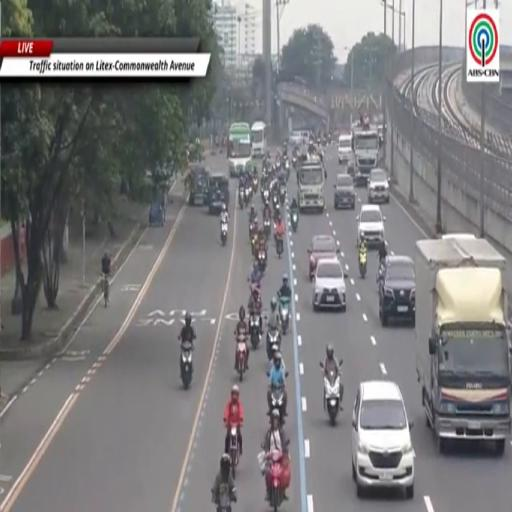bus: (227, 122, 252, 177), (251, 121, 266, 157)
car: (352, 380, 414, 499), (379, 255, 415, 326), (313, 256, 346, 311), (308, 235, 339, 280), (357, 204, 386, 247), (206, 173, 229, 214), (189, 165, 209, 205), (334, 174, 355, 210), (368, 168, 389, 203), (338, 134, 352, 166), (442, 233, 476, 239)
motorcycle: (268, 451, 284, 511), (324, 371, 341, 425), (180, 342, 193, 389), (269, 387, 284, 424), (229, 424, 239, 478), (236, 336, 247, 381), (266, 329, 281, 360), (249, 314, 260, 348), (280, 297, 290, 333), (215, 490, 232, 511), (358, 251, 367, 278), (376, 261, 384, 283), (258, 250, 266, 271), (276, 235, 283, 259), (248, 220, 256, 240), (245, 184, 252, 206), (221, 222, 227, 246), (291, 212, 298, 232), (251, 236, 257, 259), (239, 188, 245, 209), (279, 184, 285, 205), (264, 219, 270, 239), (273, 191, 279, 209), (252, 176, 258, 194), (262, 188, 269, 203), (285, 160, 289, 180), (292, 156, 296, 169)
truck: (415, 238, 510, 455), (349, 117, 381, 186), (297, 156, 325, 212)
